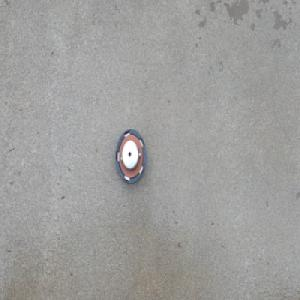FuelCap: (115, 128, 147, 186)
